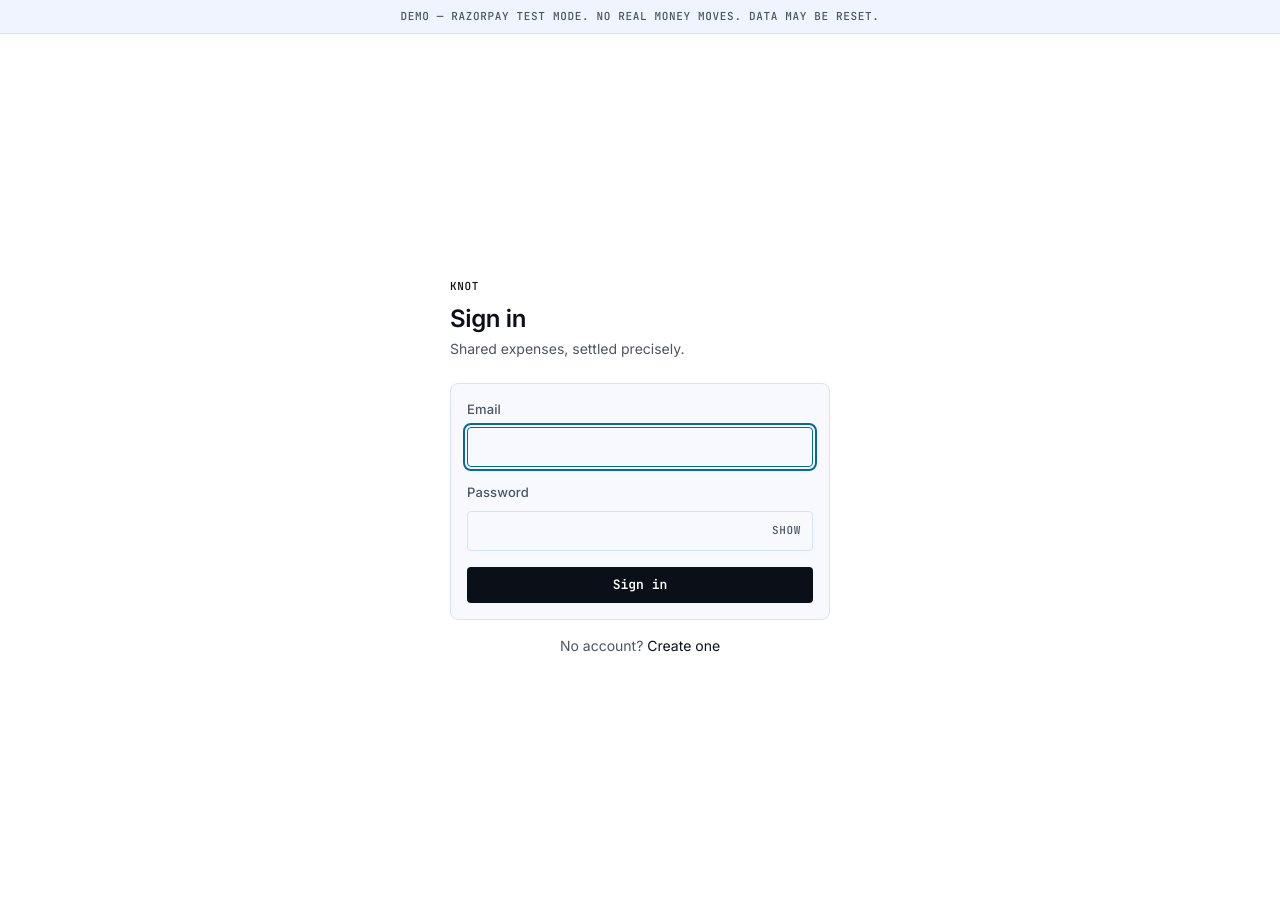
Test: LoginPage › will not submit an empty form and says why
This screenshot has width=1280, height=900.
Click the button "Sign in" at (640, 584), box x1=467 y1=566 x2=813 y2=602
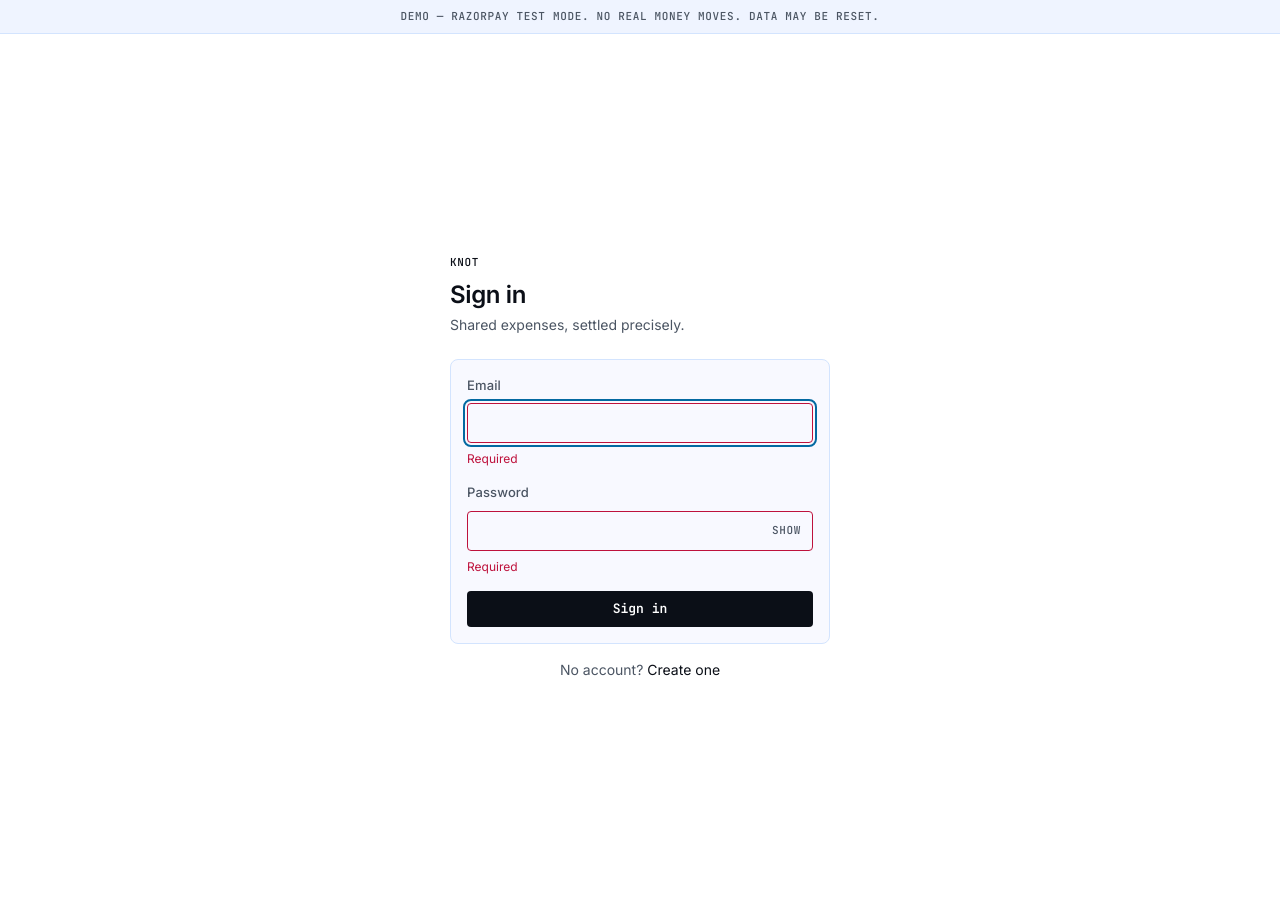
Expected: the text "Required" is shown 2 times, x1=467 y1=451 x2=518 y2=466; x1=467 y1=558 x2=518 y2=574
